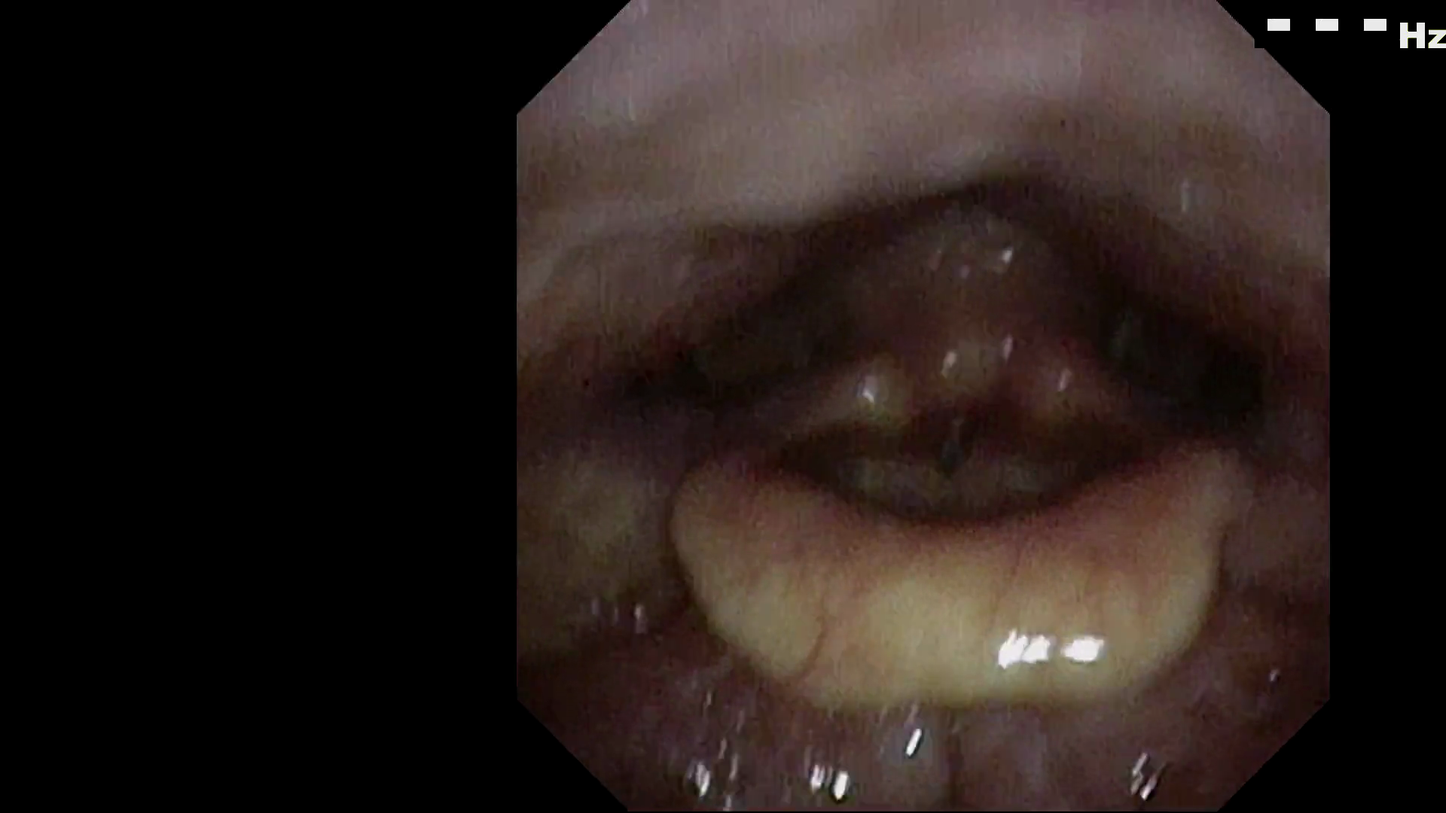epiglottis: (667, 490, 1221, 692)
trachea: (906, 431, 984, 529)
